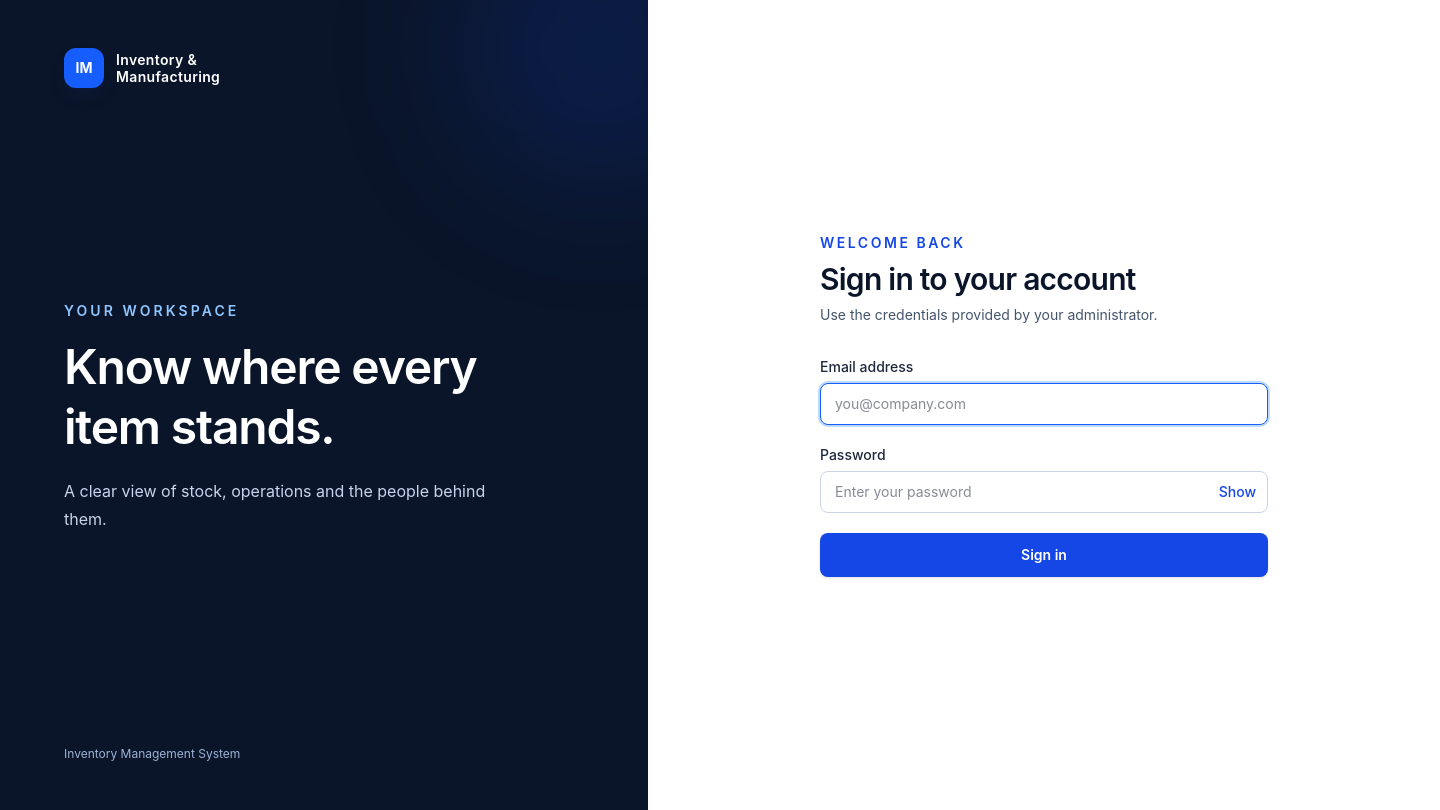
Test: frontend authentication › validates fields and toggles password visibility before submitting
The width and height of the screenshot is (1440, 810).
Expected: the heading "Sign in to your account" is shown, 820,261 -> 1136,297
Click the button "Sign in".
click(1044, 555)  # box 820,533 -> 1268,577
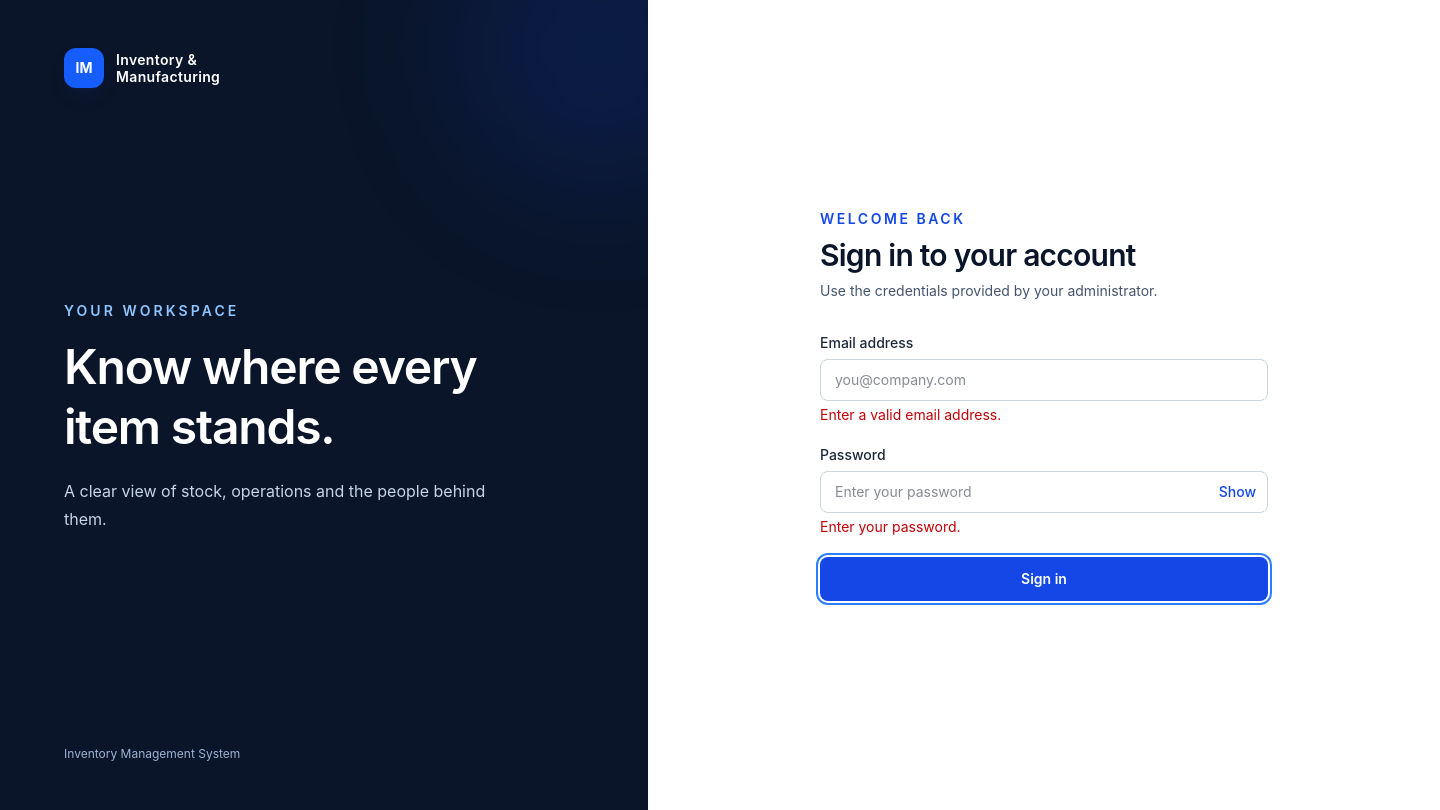
Now the text "Enter a valid email address." is shown, box 820,406 -> 1001,423
Now the text "Enter your password." is shown, box 820,518 -> 961,535
Type "secret" into the password field labelled "Password".
click(1044, 492); type("secret")  # box 820,471 -> 1268,513
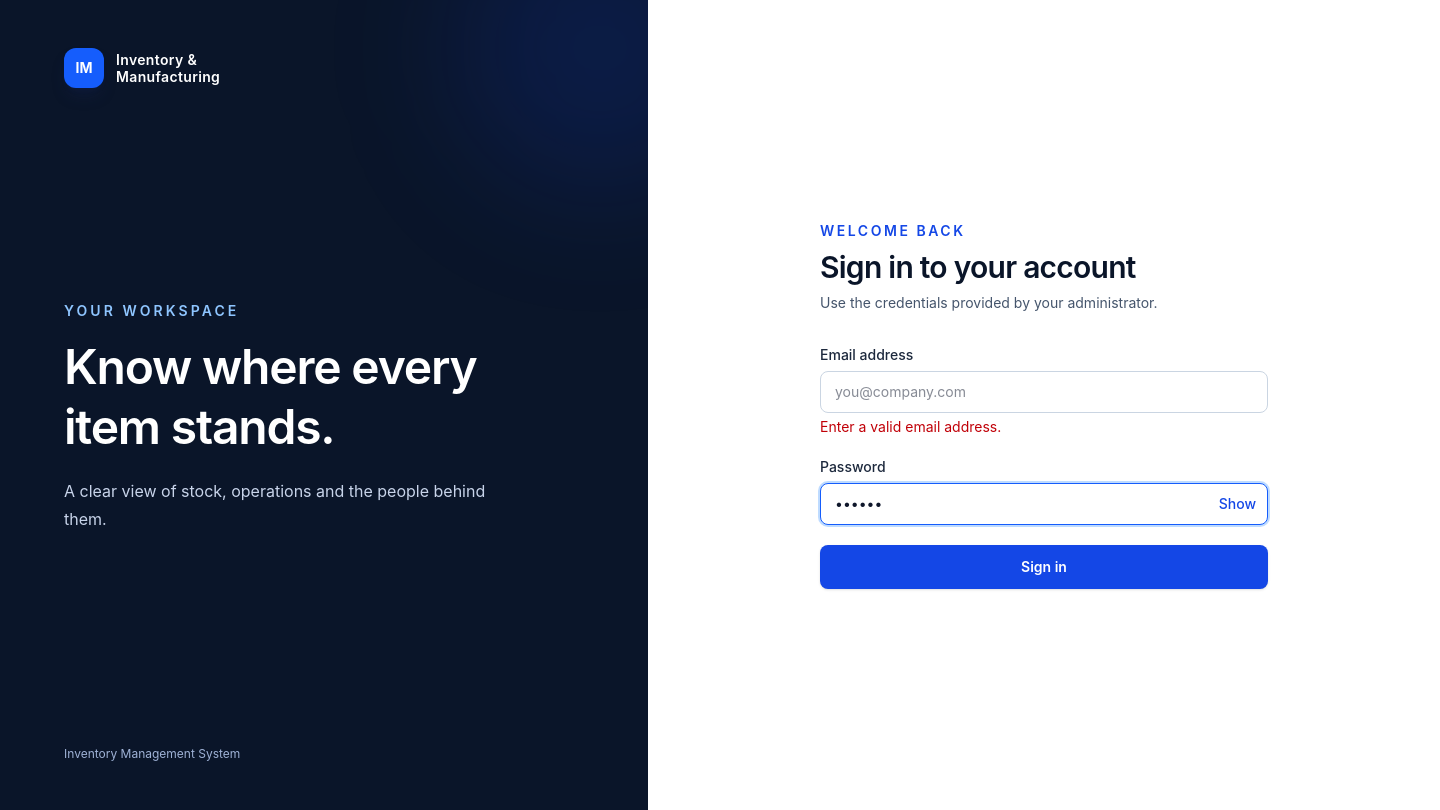
Click the button with aria-label "Show password".
click(1237, 504)  # box 1219,483 -> 1256,525
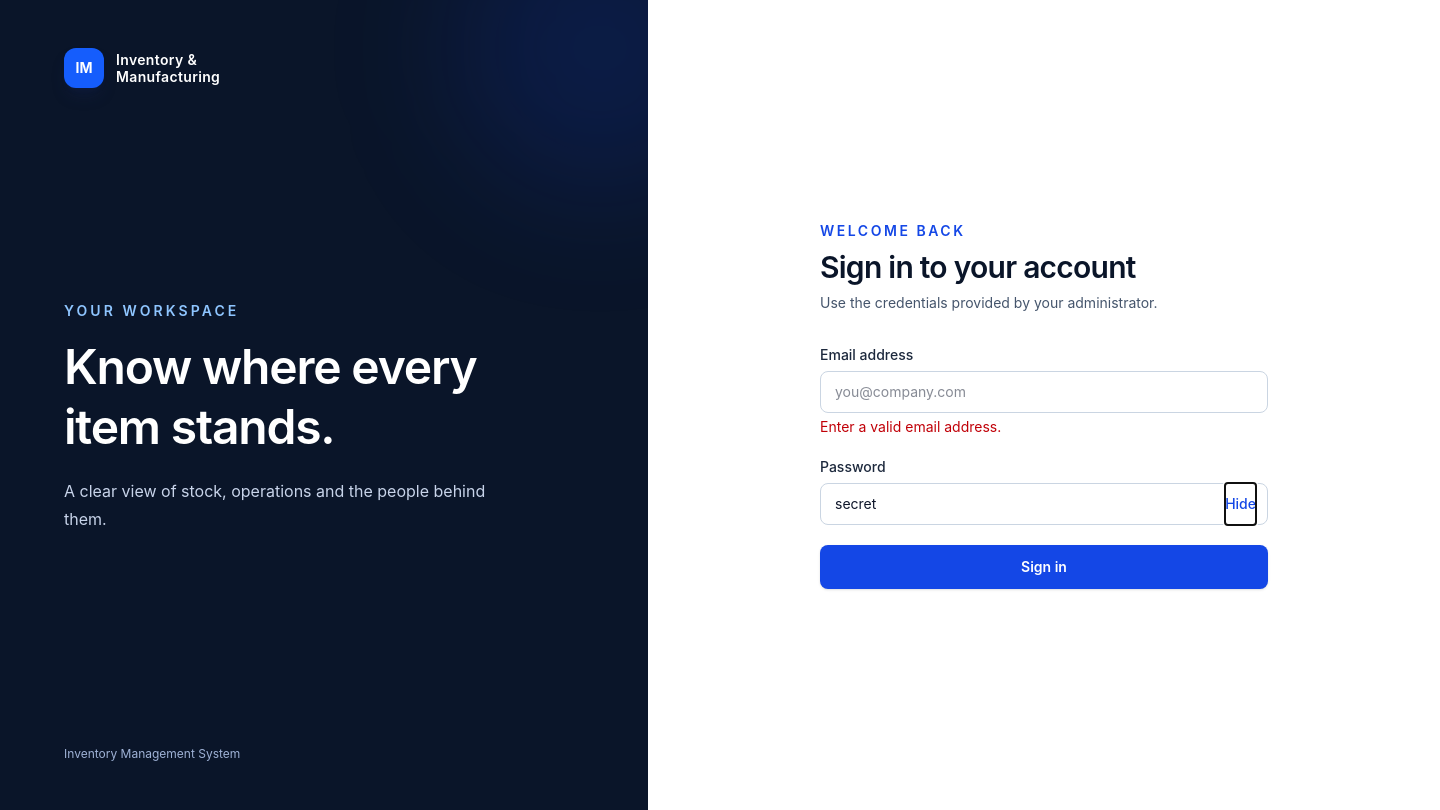
Now the field labelled "Password" shows its text, box 820,483 -> 1268,525
Click the button with aria-label "Hide password".
click(1241, 504)  # box 1225,483 -> 1256,525
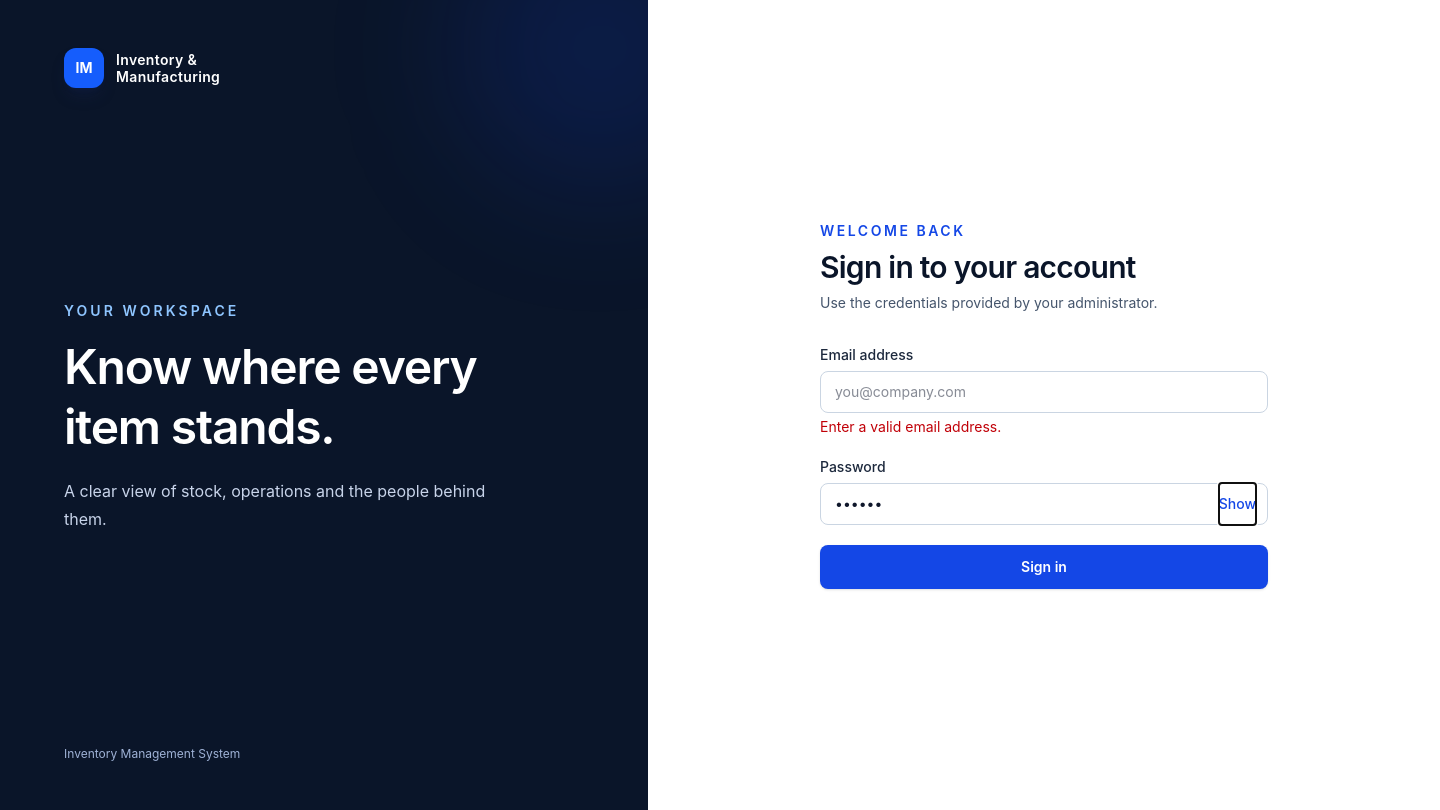
Now the password field labelled "Password" hides its text, box 820,483 -> 1268,525
